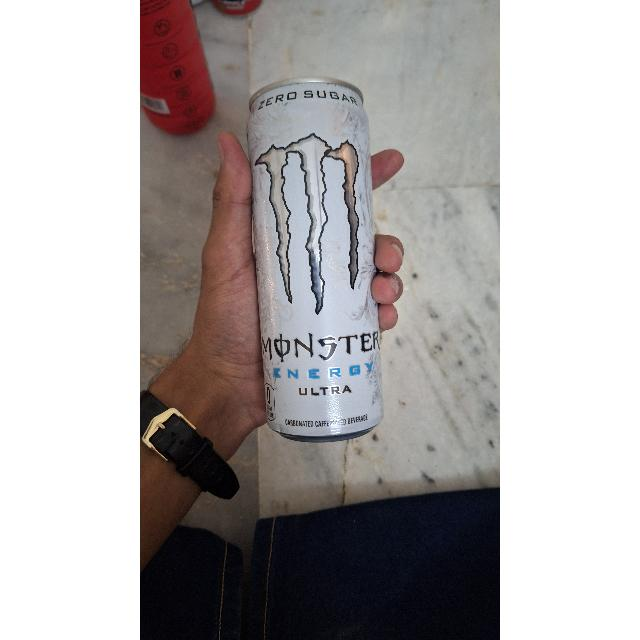White Monster: (236, 46, 397, 458)
